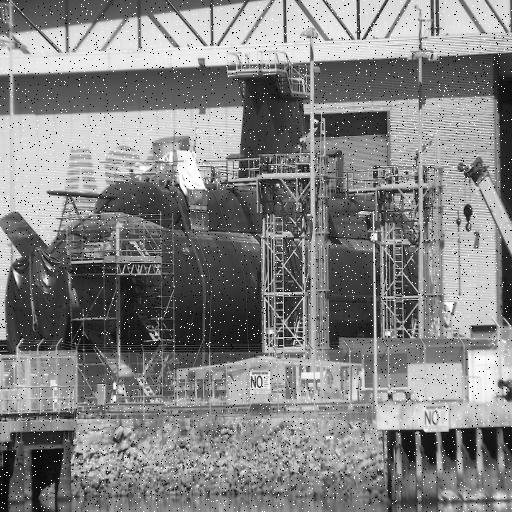submarine: (10, 68, 417, 384)
